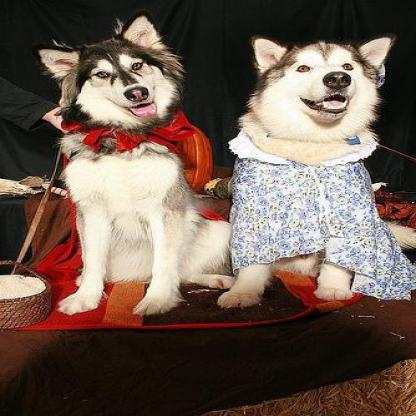malamute: (36, 12, 239, 315), (212, 34, 411, 308)
